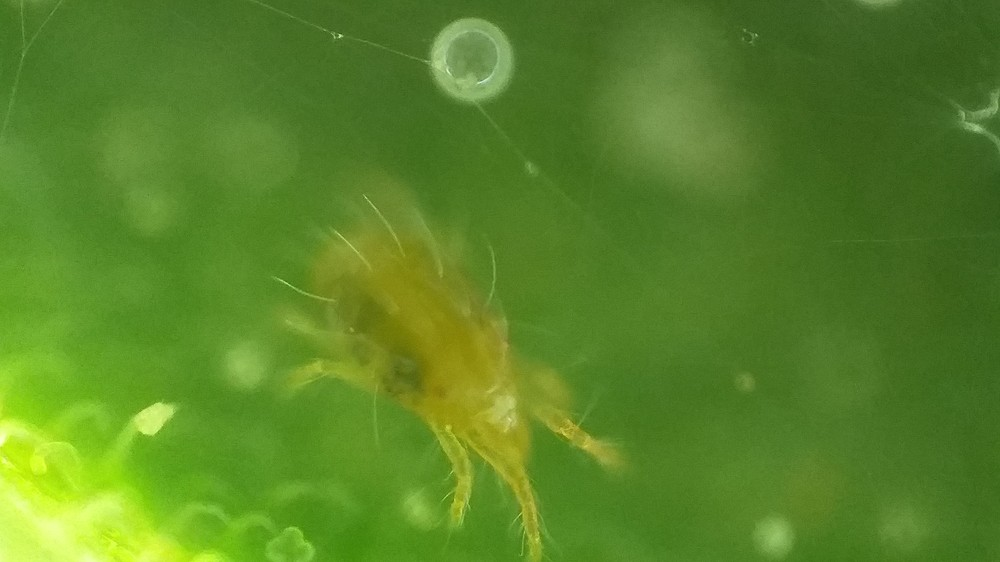Aracnido Rojo: (268, 182, 649, 555)
